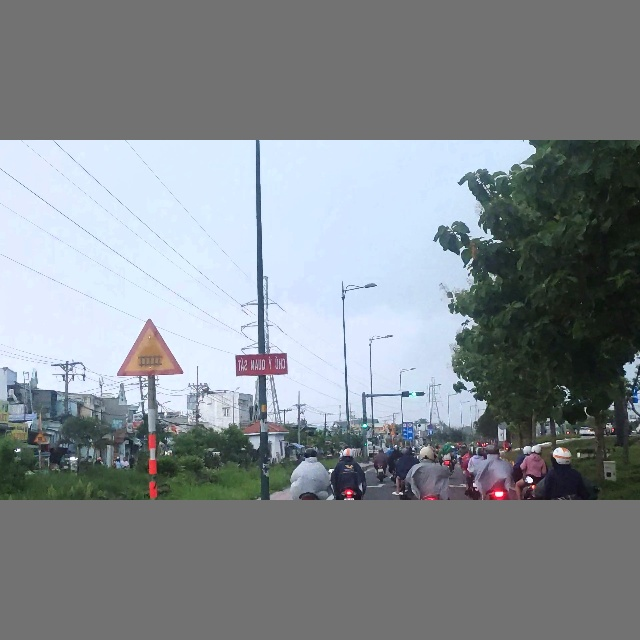I.407a: (428, 429, 434, 435)
W.210: (116, 317, 184, 377)
